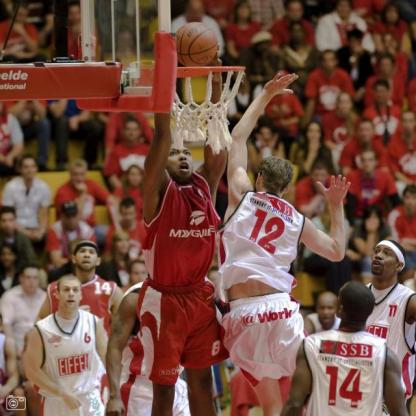basketball: (175, 21, 219, 67)
rim: (174, 65, 246, 78)
